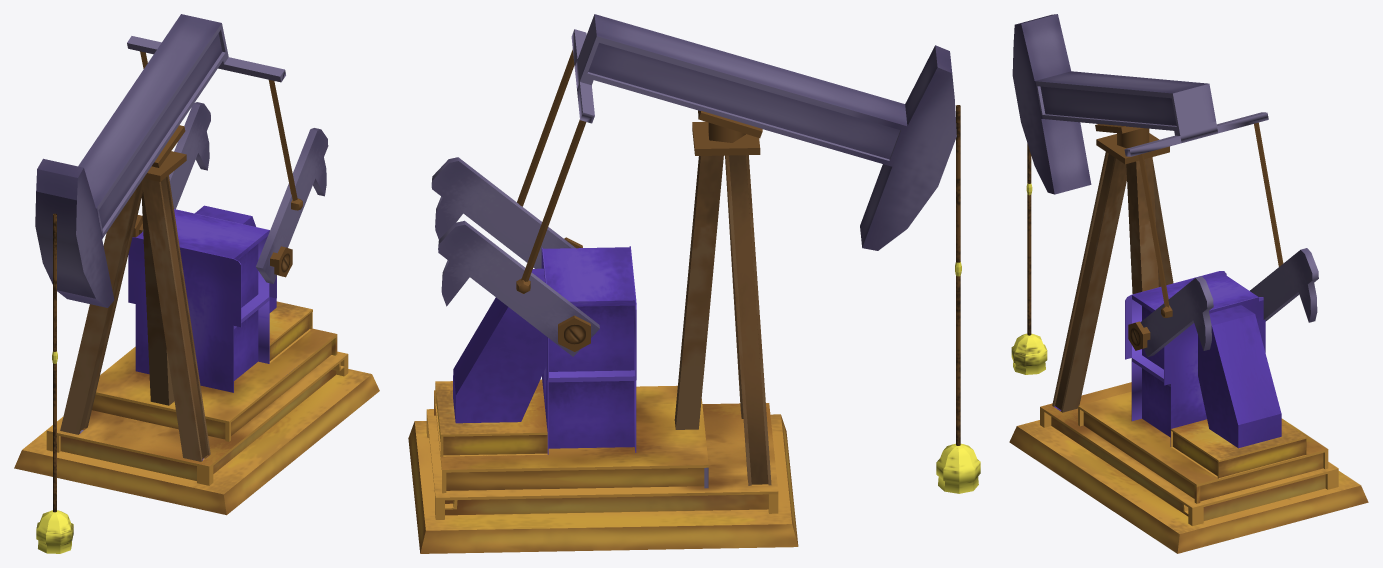
File: OilDrillLand.fbx
3 views of the same model, side by side, from view 1: azimuth 30°, elevation 25°; view 2: azimuth 150°, elevation 25°; view 3: azimuth 270°, elevation 25° (orthographic). The views are drawn at different scales.
Parts seen in each view (by area): view 1: pCube1, pCube6, polySurface3, OilDrillLand, pCylinder2, polySurface2, pCube013, pCube11, pCube5, pCylinder006; view 2: pCube1, pCube6, polySurface3, pCube11, polySurface2, OilDrillLand, pCylinder2, pCube5, pCube10, pCube013, pCylinder3; view 3: pCube1, pCube6, polySurface3, pCube11, OilDrillLand, polySurface2, pCylinder2, pCube013, pCube10, pCube5, pCylinder1, pCylinder006.
Part boxes in pixels (box(x1,y1,x2,y2)): pCube1: box(14, 209, 379, 515); pCube6: box(35, 14, 285, 307); polySurface3: box(60, 175, 210, 461); OilDrillLand: box(256, 128, 328, 283); pCylinder2: box(36, 213, 73, 553); polySurface2: box(142, 102, 210, 232); pCube013: box(268, 80, 297, 200); pCube11: box(195, 205, 276, 312); pCube5: box(144, 151, 186, 181); pCylinder006: box(270, 246, 292, 277); pCube1: box(408, 246, 798, 553); pCube6: box(571, 14, 956, 250); polySurface3: box(674, 155, 771, 485); pCube11: box(453, 268, 546, 423); polySurface2: box(438, 220, 599, 356); OilDrillLand: box(431, 157, 575, 268); pCylinder2: box(936, 105, 980, 493); pCube5: box(692, 121, 760, 155); pCube10: box(521, 119, 586, 281); pCube013: box(517, 49, 574, 206); pCylinder3: box(558, 315, 590, 351); pCube1: box(1009, 271, 1368, 553); pCube6: box(1012, 14, 1268, 194); polySurface3: box(1052, 152, 1173, 412); pCube11: box(1198, 305, 1281, 448); OilDrillLand: box(1140, 276, 1213, 356); polySurface2: box(1250, 248, 1318, 322); pCylinder2: box(1011, 143, 1047, 374); pCube013: box(1138, 153, 1168, 307); pCube10: box(1254, 122, 1283, 266); pCube5: box(1096, 133, 1169, 164); pCylinder1: box(1117, 128, 1149, 148); pCylinder006: box(1128, 321, 1150, 350).
Bounding box in the file's own units: 64.85 × 60.37 × 50.89.
Materials: 1 (1 with a texture image).
